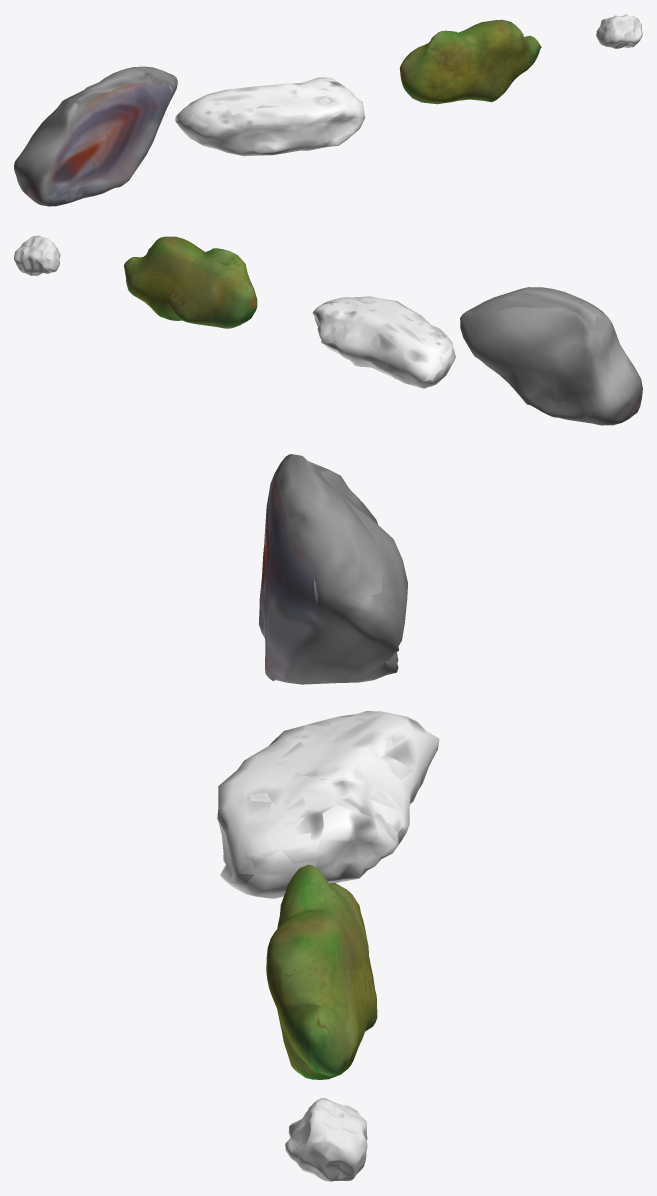
The model's file is MineriosMuseu3 1.fbx.
The picture shows the model from 3 angles, top to bottom: view 1: azimuth 30°, elevation 25°; view 2: azimuth 150°, elevation 25°; view 3: azimuth 270°, elevation 25°; orthographic projection. The views are drawn at different scales.
Parts seen in each view (by area): view 1: Agata, Caulim, Talco, Diamante; view 2: Agata, Talco, Caulim, Diamante; view 3: Caulim, Agata, Talco, Diamante.
Part boxes in pixels (x1,y1,x2,y2): Agata: (14, 66, 177, 206); Caulim: (175, 77, 365, 156); Talco: (399, 19, 541, 104); Diamante: (596, 14, 642, 48); Agata: (460, 287, 642, 425); Talco: (124, 236, 257, 328); Caulim: (312, 296, 455, 388); Diamante: (14, 235, 60, 275); Caulim: (217, 711, 439, 898); Agata: (259, 454, 407, 684); Talco: (266, 864, 377, 1079); Diamante: (285, 1098, 367, 1181).
Bounding box in the file's own units: 2552 × 466 × 399.
